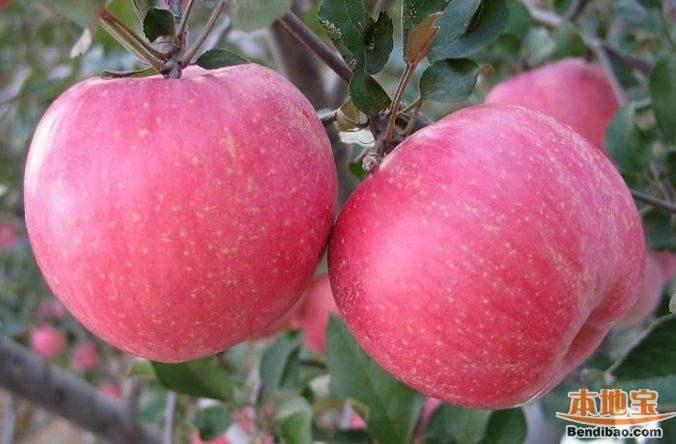apple: (326, 99, 643, 409), (20, 65, 340, 366), (482, 58, 620, 163)
